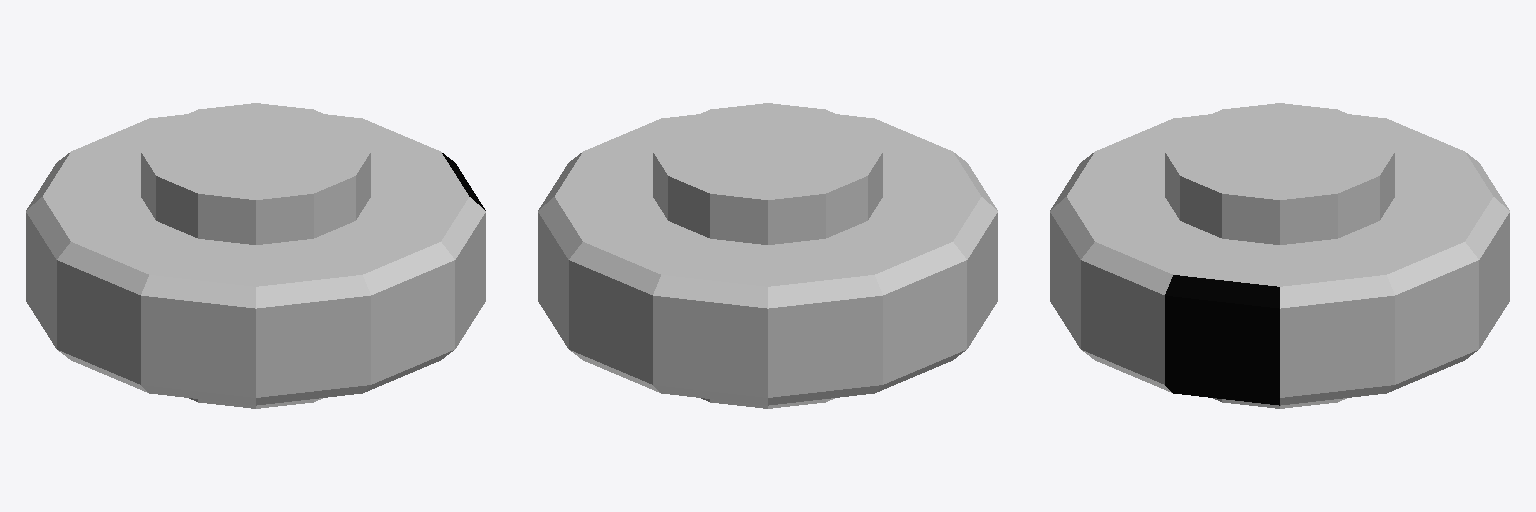
The model's file is block_spur_1_1.obj.
3 views of the same model, side by side, from view 1: azimuth 30°, elevation 25°; view 2: azimuth 150°, elevation 25°; view 3: azimuth 270°, elevation 25° (orthographic).
Visible parts, largest first — view 1: Cylinder; view 2: Cylinder; view 3: Cylinder.
Part boxes in pixels (x1,y1,x2,y2): Cylinder: (26,103,485,408); Cylinder: (538,103,997,408); Cylinder: (1050,103,1509,408).
Bounding box in the file's own units: 0.2 × 0.1 × 0.2.